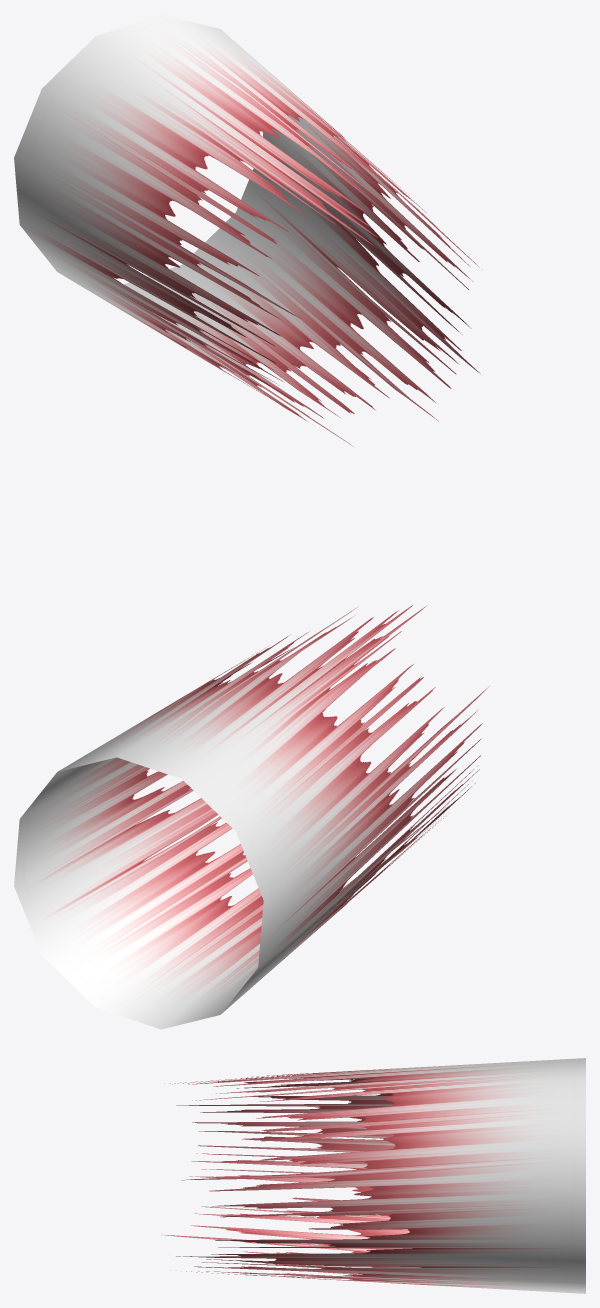
Rendered from Effect5.obj.
The picture shows the model from 3 angles, top to bottom: view 1: azimuth 30°, elevation 25°; view 2: azimuth 150°, elevation 25°; view 3: azimuth 270°, elevation 25°; orthographic projection. The views are drawn at different scales.
Visible parts, largest first — view 1: Cylinder001; view 2: Cylinder001; view 3: Cylinder001.
Part boxes in pixels (bbox=[...]): Cylinder001: bbox=[14, 14, 480, 446]; Cylinder001: bbox=[14, 605, 489, 1029]; Cylinder001: bbox=[161, 1058, 585, 1293].
Size of the model in its own units: 32 by 32 by 78.49.
Materials: 1 (1 with a texture image).
